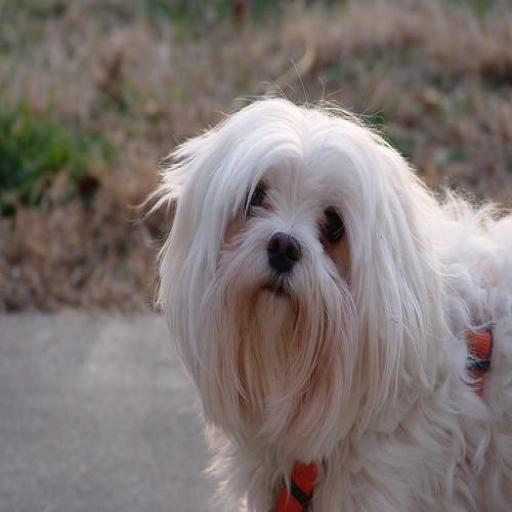dog_face: (159, 95, 397, 406)
